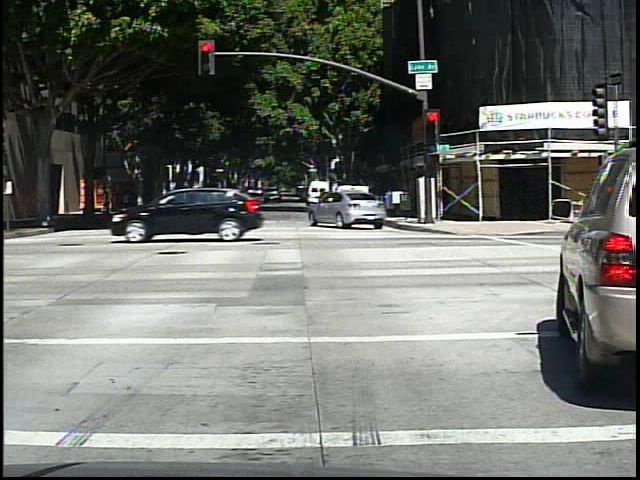person: (99, 185, 112, 219)
